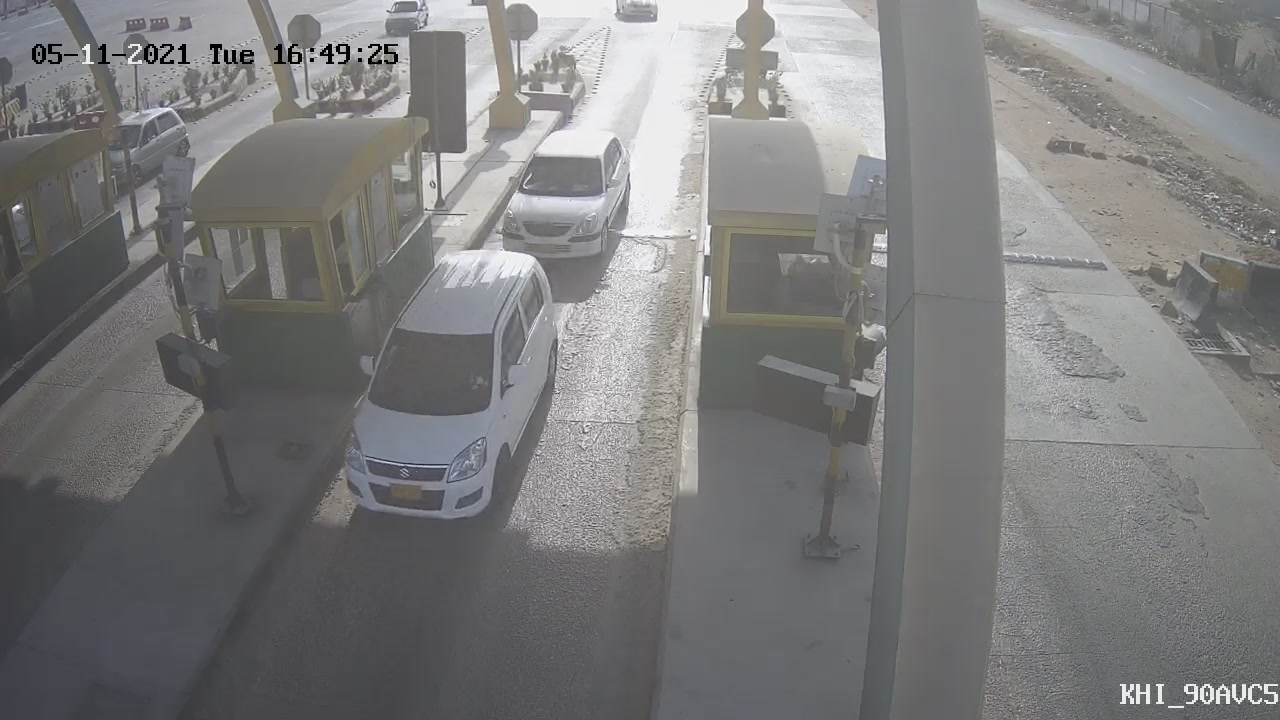F1: (324, 234, 576, 553), (489, 117, 655, 288)
